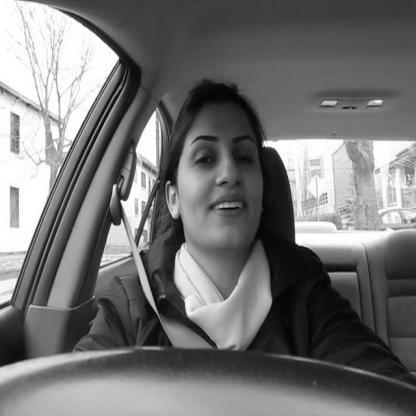seatbelt: (107, 62, 280, 348)
